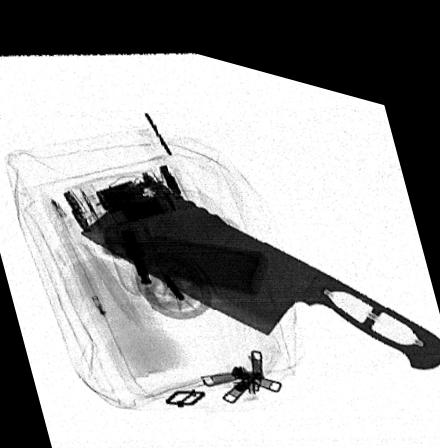Knife: (77, 166, 440, 346)
